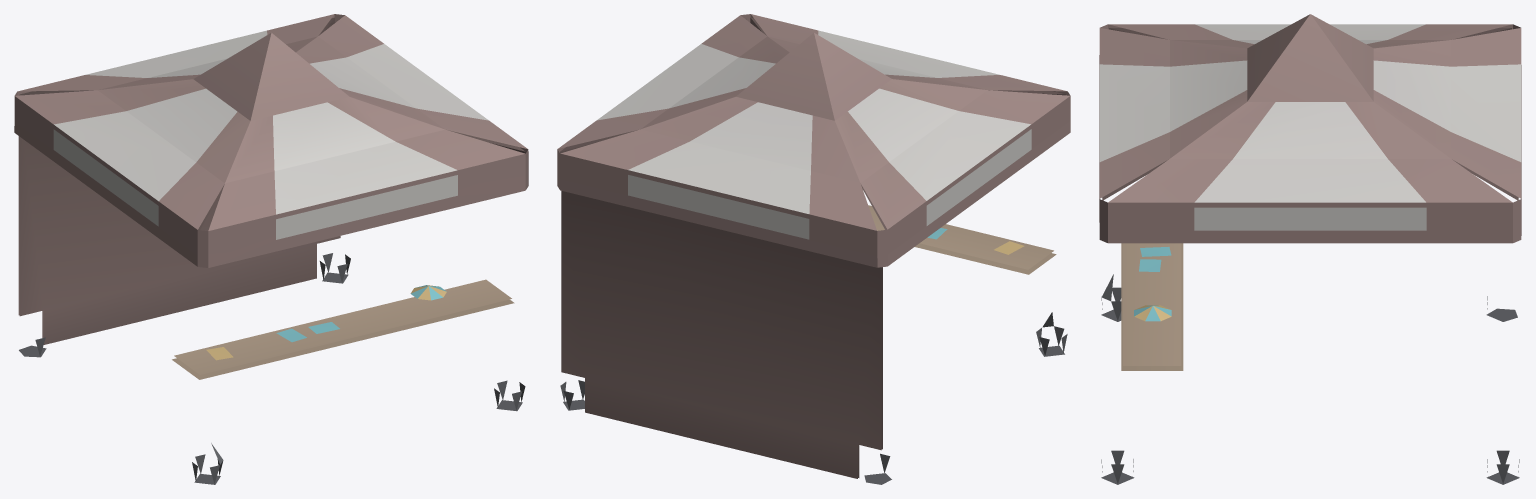
File: gazebo.lod.glb
3 views of the same model, side by side, from view 1: azimuth 30°, elevation 25°; view 2: azimuth 150°, elevation 25°; view 3: azimuth 270°, elevation 25° (orthographic). The views are drawn at different scales.
Parts seen in each view (by area): view 1: gazebo; view 2: gazebo; view 3: gazebo.
Part boxes in pixels (bbox=[...]): gazebo: bbox=[14, 14, 528, 484]; gazebo: bbox=[557, 14, 1070, 484]; gazebo: bbox=[1099, 14, 1521, 484].
Size of the model in its own units: 4.2 by 4.2 by 4.2.
